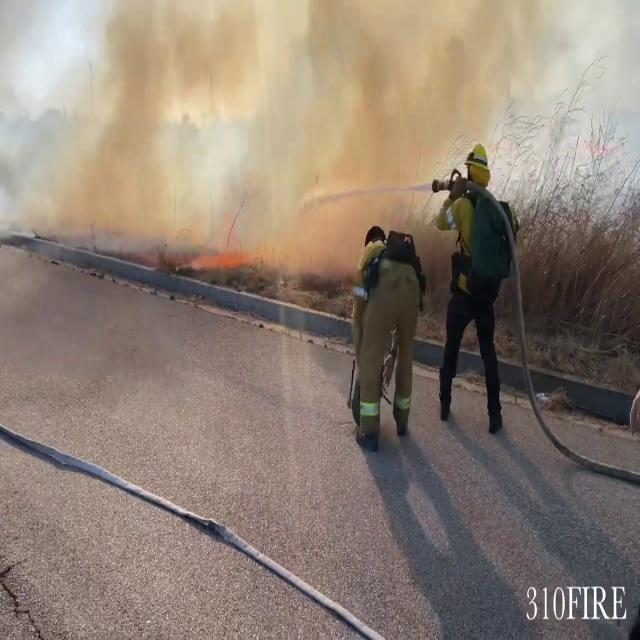Smoke: (15, 0, 638, 255), (0, 0, 400, 267)
